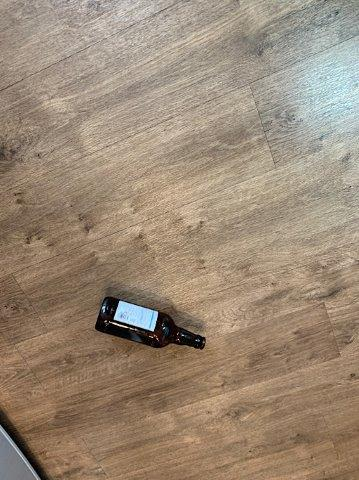botolkaca: (94, 296, 208, 350)
